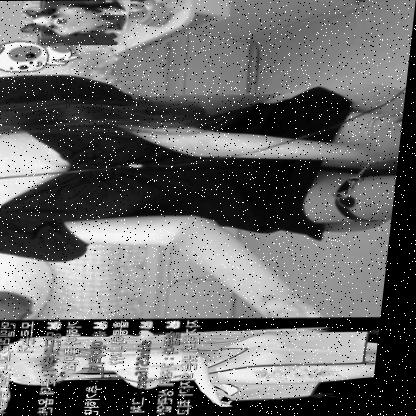streamer: (0, 73, 409, 319)
